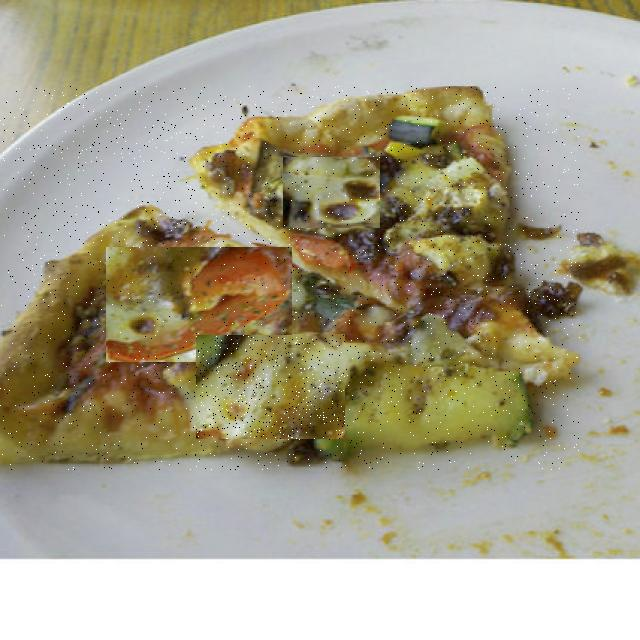Cheese: (196, 335, 345, 439), (283, 158, 380, 228)
Pizza: (0, 87, 580, 470)
Tomato: (106, 248, 292, 362)
